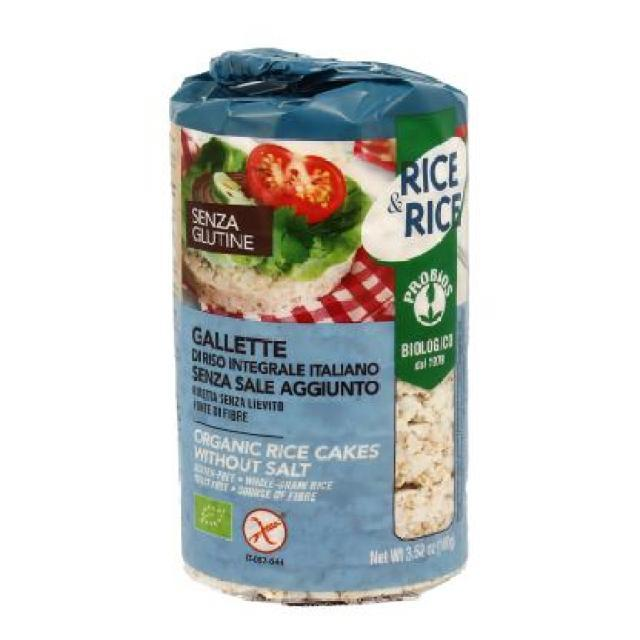Gallette di riso: (157, 45, 476, 610)
